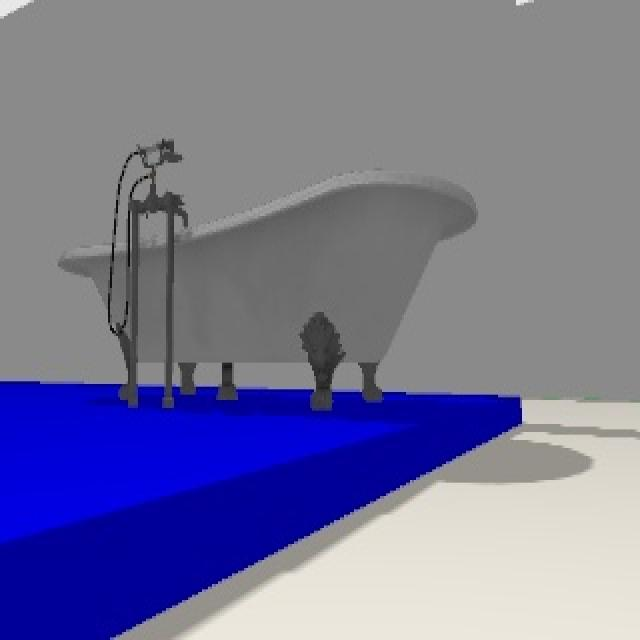bathtub: (57, 140, 475, 414)
